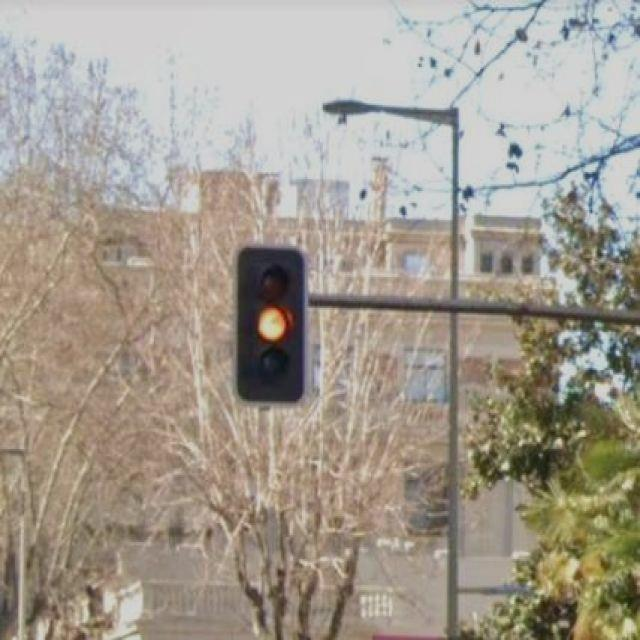Yellow: (254, 252, 294, 398)
